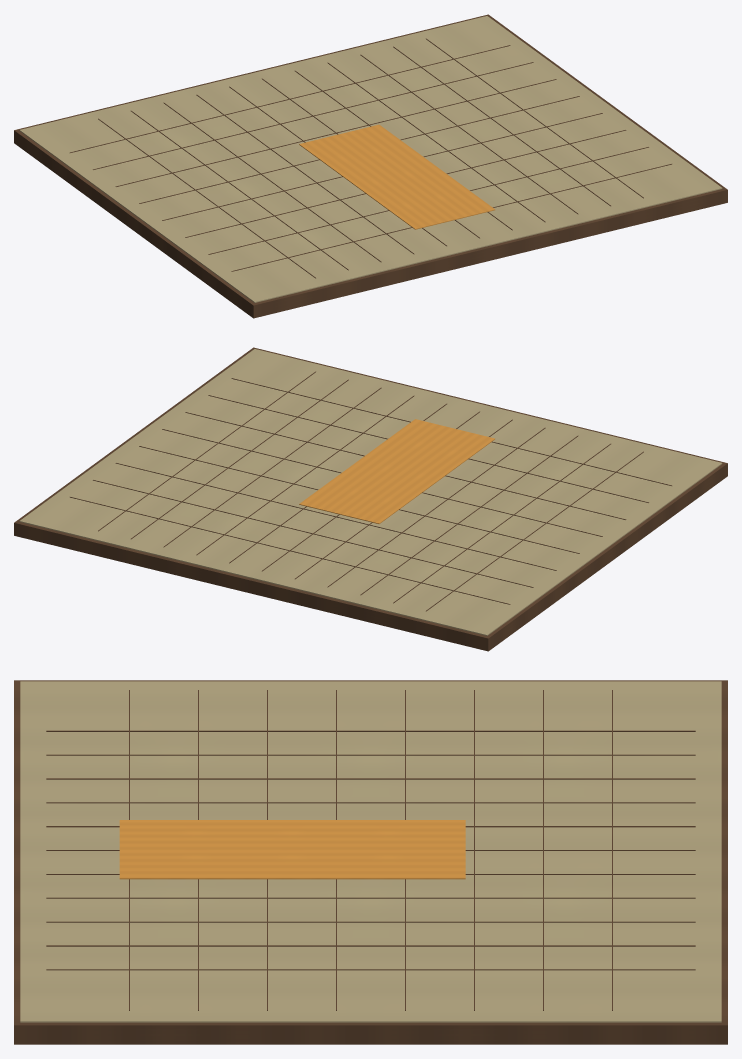
File: atlas100-s011-a07.glb
3 views of the same model, one above another, from view 1: azimuth 30°, elevation 25°; view 2: azimuth 150°, elevation 25°; view 3: azimuth 270°, elevation 25° (orthographic). The views are drawn at different scales.
Visible parts, largest first — view 1: atlas100-s011-a07:part-001, atlas100-s011-a07:part-000, atlas100-s011-a07:part-021, atlas100-s011-a07:part-013, atlas100-s011-a07:part-015, atlas100-s011-a07:part-014, atlas100-s011-a07:part-020, atlas100-s011-a07:part-018, atlas100-s011-a07:part-019, atlas100-s011-a07:part-017, atlas100-s011-a07:part-016; view 2: atlas100-s011-a07:part-001, atlas100-s011-a07:part-000, atlas100-s011-a07:part-021, atlas100-s011-a07:part-013, atlas100-s011-a07:part-014, atlas100-s011-a07:part-015, atlas100-s011-a07:part-020, atlas100-s011-a07:part-019, atlas100-s011-a07:part-018, atlas100-s011-a07:part-016, atlas100-s011-a07:part-017; view 3: atlas100-s011-a07:part-001, atlas100-s011-a07:part-000, atlas100-s011-a07:part-021, atlas100-s011-a07:part-004, atlas100-s011-a07:part-010, atlas100-s011-a07:part-011, atlas100-s011-a07:part-012, atlas100-s011-a07:part-005, atlas100-s011-a07:part-009, atlas100-s011-a07:part-003, atlas100-s011-a07:part-002, atlas100-s011-a07:part-006.
Part boxes in pixels (box(x1,y1,x2,y2)): atlas100-s011-a07:part-001: box(19, 16, 722, 302); atlas100-s011-a07:part-000: box(14, 14, 727, 318); atlas100-s011-a07:part-021: box(299, 124, 495, 229); atlas100-s011-a07:part-013: box(70, 45, 510, 152); atlas100-s011-a07:part-015: box(115, 79, 556, 186); atlas100-s011-a07:part-014: box(93, 62, 533, 169); atlas100-s011-a07:part-020: box(231, 164, 671, 271); atlas100-s011-a07:part-018: box(185, 130, 626, 237); atlas100-s011-a07:part-019: box(208, 147, 648, 254); atlas100-s011-a07:part-017: box(162, 113, 602, 220); atlas100-s011-a07:part-016: box(139, 96, 579, 203); atlas100-s011-a07:part-001: box(19, 349, 722, 635); atlas100-s011-a07:part-000: box(14, 347, 727, 651); atlas100-s011-a07:part-021: box(299, 419, 494, 523); atlas100-s011-a07:part-013: box(70, 497, 510, 604); atlas100-s011-a07:part-014: box(93, 480, 533, 587); atlas100-s011-a07:part-015: box(115, 463, 556, 570); atlas100-s011-a07:part-020: box(231, 378, 671, 485); atlas100-s011-a07:part-019: box(208, 395, 648, 502); atlas100-s011-a07:part-018: box(185, 412, 626, 519); atlas100-s011-a07:part-016: box(139, 446, 579, 553); atlas100-s011-a07:part-017: box(162, 429, 602, 536); atlas100-s011-a07:part-001: box(20, 681, 721, 1022); atlas100-s011-a07:part-000: box(14, 680, 727, 1044); atlas100-s011-a07:part-021: box(119, 820, 465, 879); atlas100-s011-a07:part-004: box(46, 778, 695, 779); atlas100-s011-a07:part-010: box(46, 921, 695, 922); atlas100-s011-a07:part-011: box(46, 945, 695, 946); atlas100-s011-a07:part-012: box(46, 969, 695, 970); atlas100-s011-a07:part-005: box(46, 802, 695, 803); atlas100-s011-a07:part-009: box(46, 897, 695, 898); atlas100-s011-a07:part-003: box(46, 754, 695, 755); atlas100-s011-a07:part-002: box(46, 730, 695, 731); atlas100-s011-a07:part-006: box(46, 826, 695, 827).
Size of the model in its own units: 13.02 by 0.404 by 11.39.
3 materials, 3 textured.
